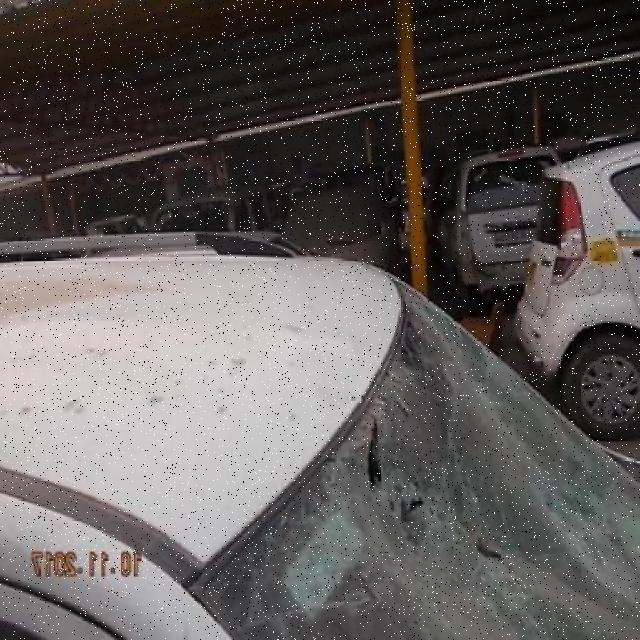damage: (191, 278, 640, 640), (299, 332, 376, 417)
